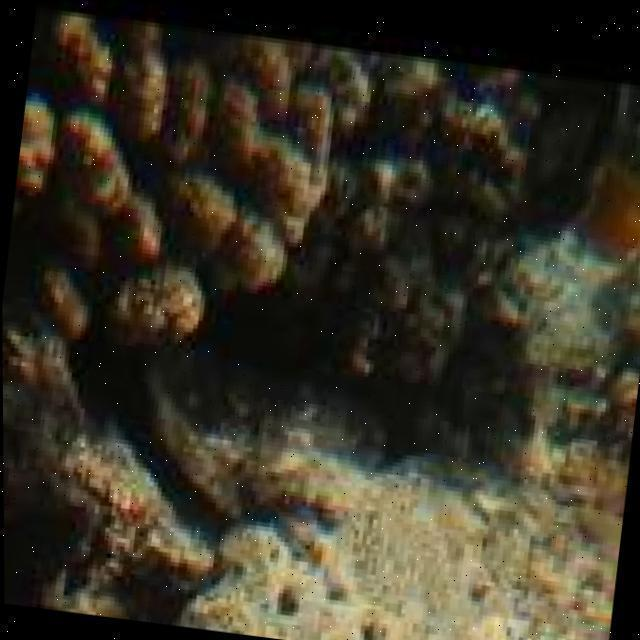Dead Coral: (353, 21, 516, 431)
